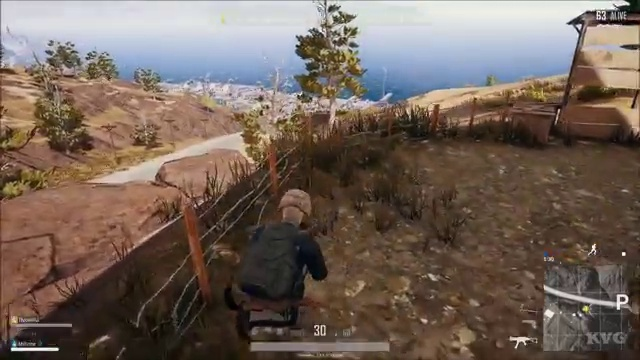Player: (192, 183, 381, 320)
